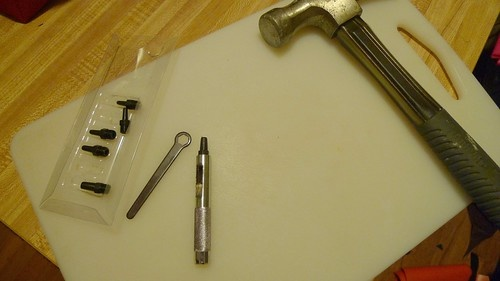hammer: (258, 0, 500, 219)
